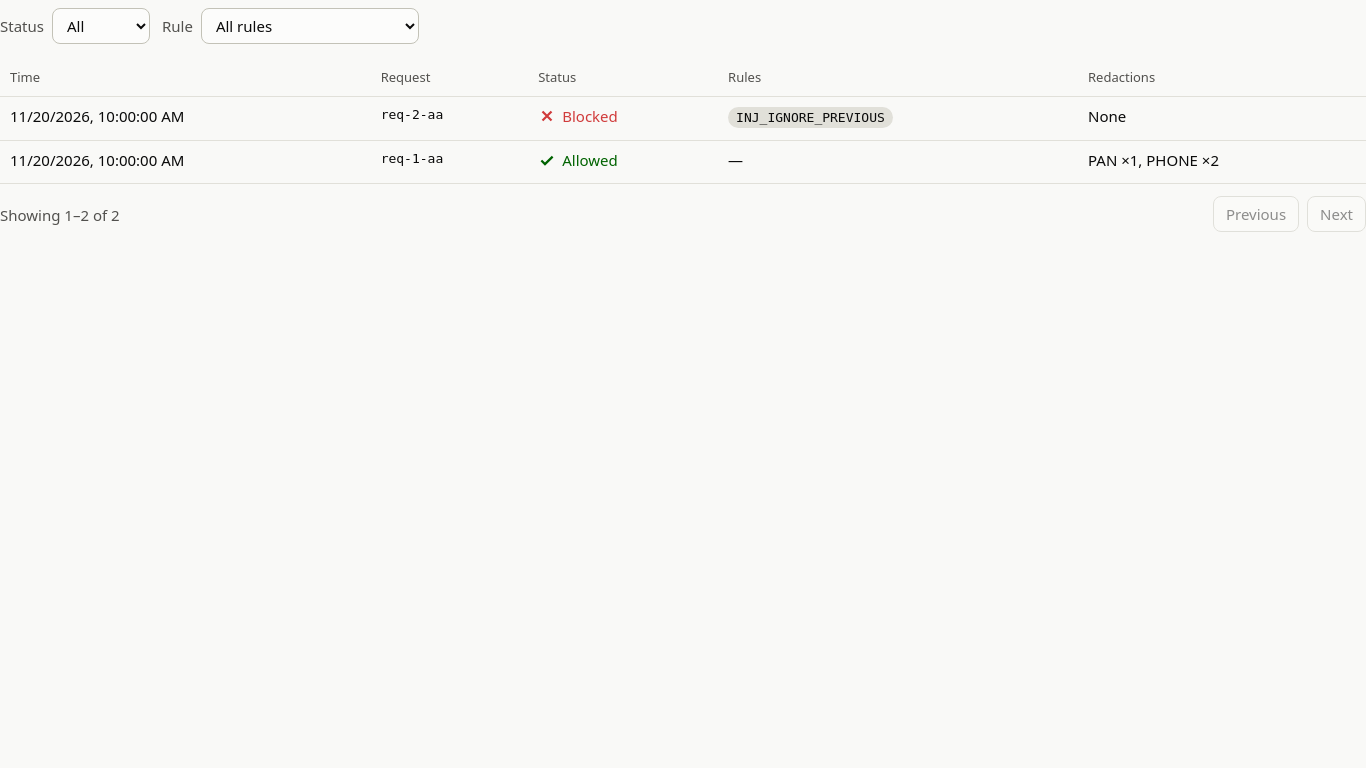
EventsView › shows 'event not found' when the detail request 404s
Click the row that starts with "11/20/2026, 10:00:00 AM" at (683,118), box x1=0 y1=96 x2=1365 y2=140
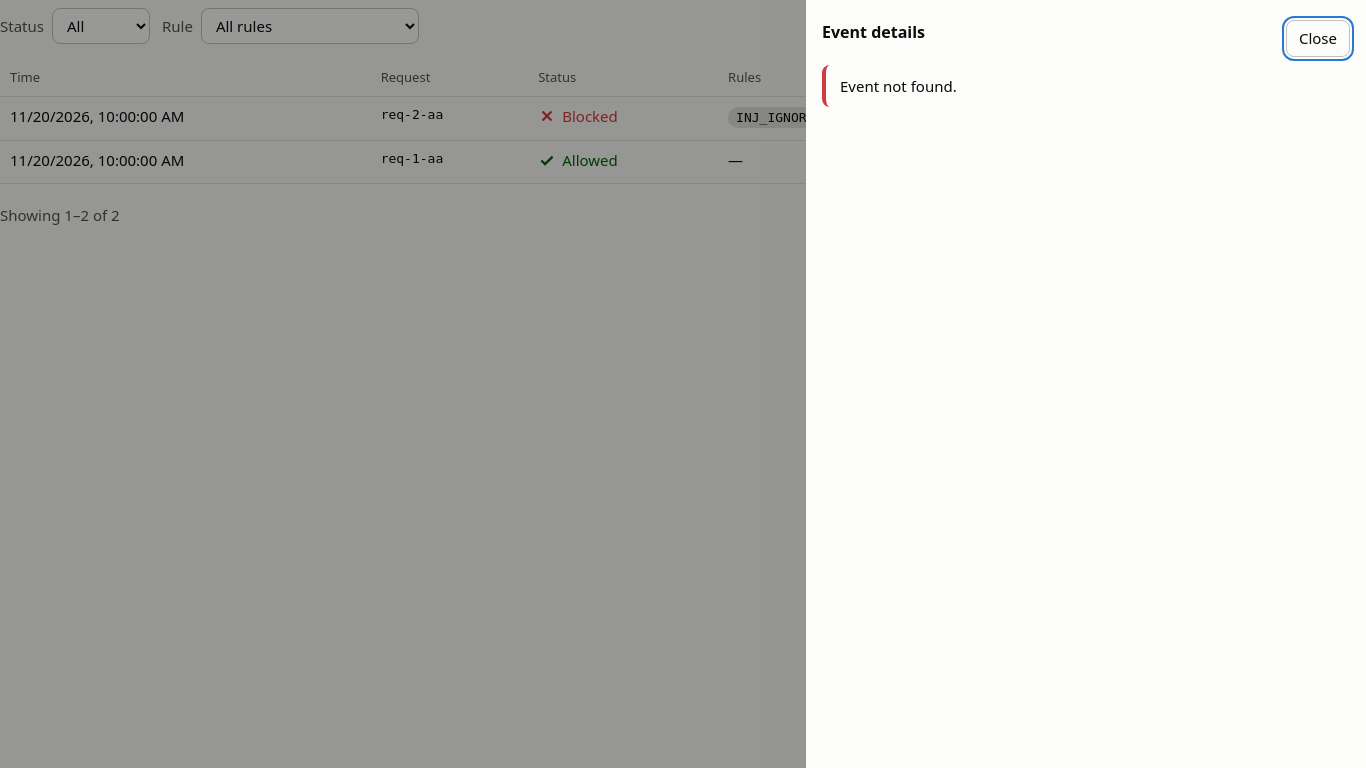
Expected: the text "Event not found." is shown, x1=822 y1=64 x2=1350 y2=107
